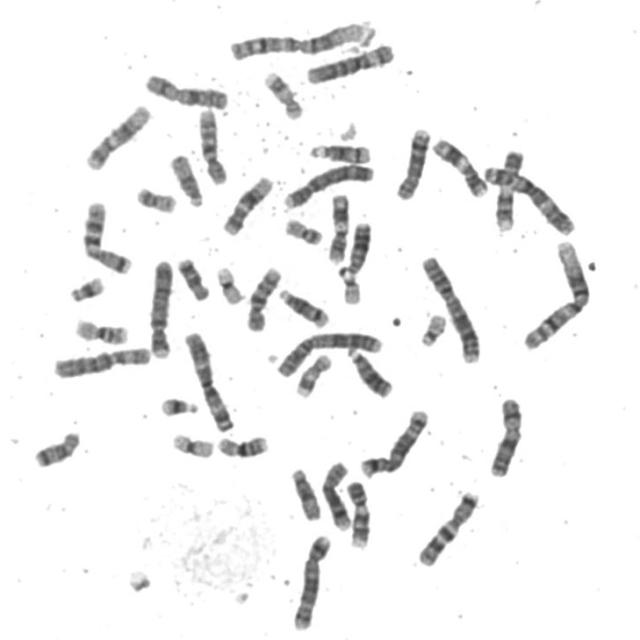A1: (518, 235, 594, 352), (225, 15, 373, 62)
A2: (417, 249, 485, 365), (271, 325, 387, 379)
A3: (480, 159, 579, 236), (180, 325, 237, 433)
B4: (280, 157, 378, 210), (146, 254, 177, 360)
B5: (356, 402, 433, 480), (288, 529, 335, 632)
C10: (242, 260, 286, 334), (194, 102, 232, 186)
C11: (429, 132, 492, 198), (324, 188, 353, 264)
C12: (82, 97, 154, 172), (218, 169, 278, 237)
C6: (302, 37, 399, 86), (50, 340, 156, 381)
C7: (414, 484, 484, 567), (78, 195, 137, 276)
C8: (392, 122, 434, 201), (318, 455, 354, 532)
C9: (492, 143, 528, 233), (342, 474, 375, 551)
D13: (343, 342, 397, 399), (342, 216, 376, 276)
D14: (274, 282, 334, 329), (306, 138, 375, 164)
D15: (167, 148, 207, 209), (287, 462, 325, 522)
E16: (70, 312, 133, 346), (213, 429, 272, 459)
E17: (260, 65, 307, 121), (292, 347, 336, 399)
E18: (30, 424, 84, 469), (174, 250, 213, 302)
F19: (212, 260, 248, 306), (168, 427, 218, 459)
F20: (280, 212, 328, 246), (132, 181, 181, 214)
G21: (66, 270, 108, 304), (156, 391, 202, 418)
G22: (416, 307, 451, 347), (334, 262, 365, 306)
X: (141, 68, 233, 110), (485, 391, 527, 480)
